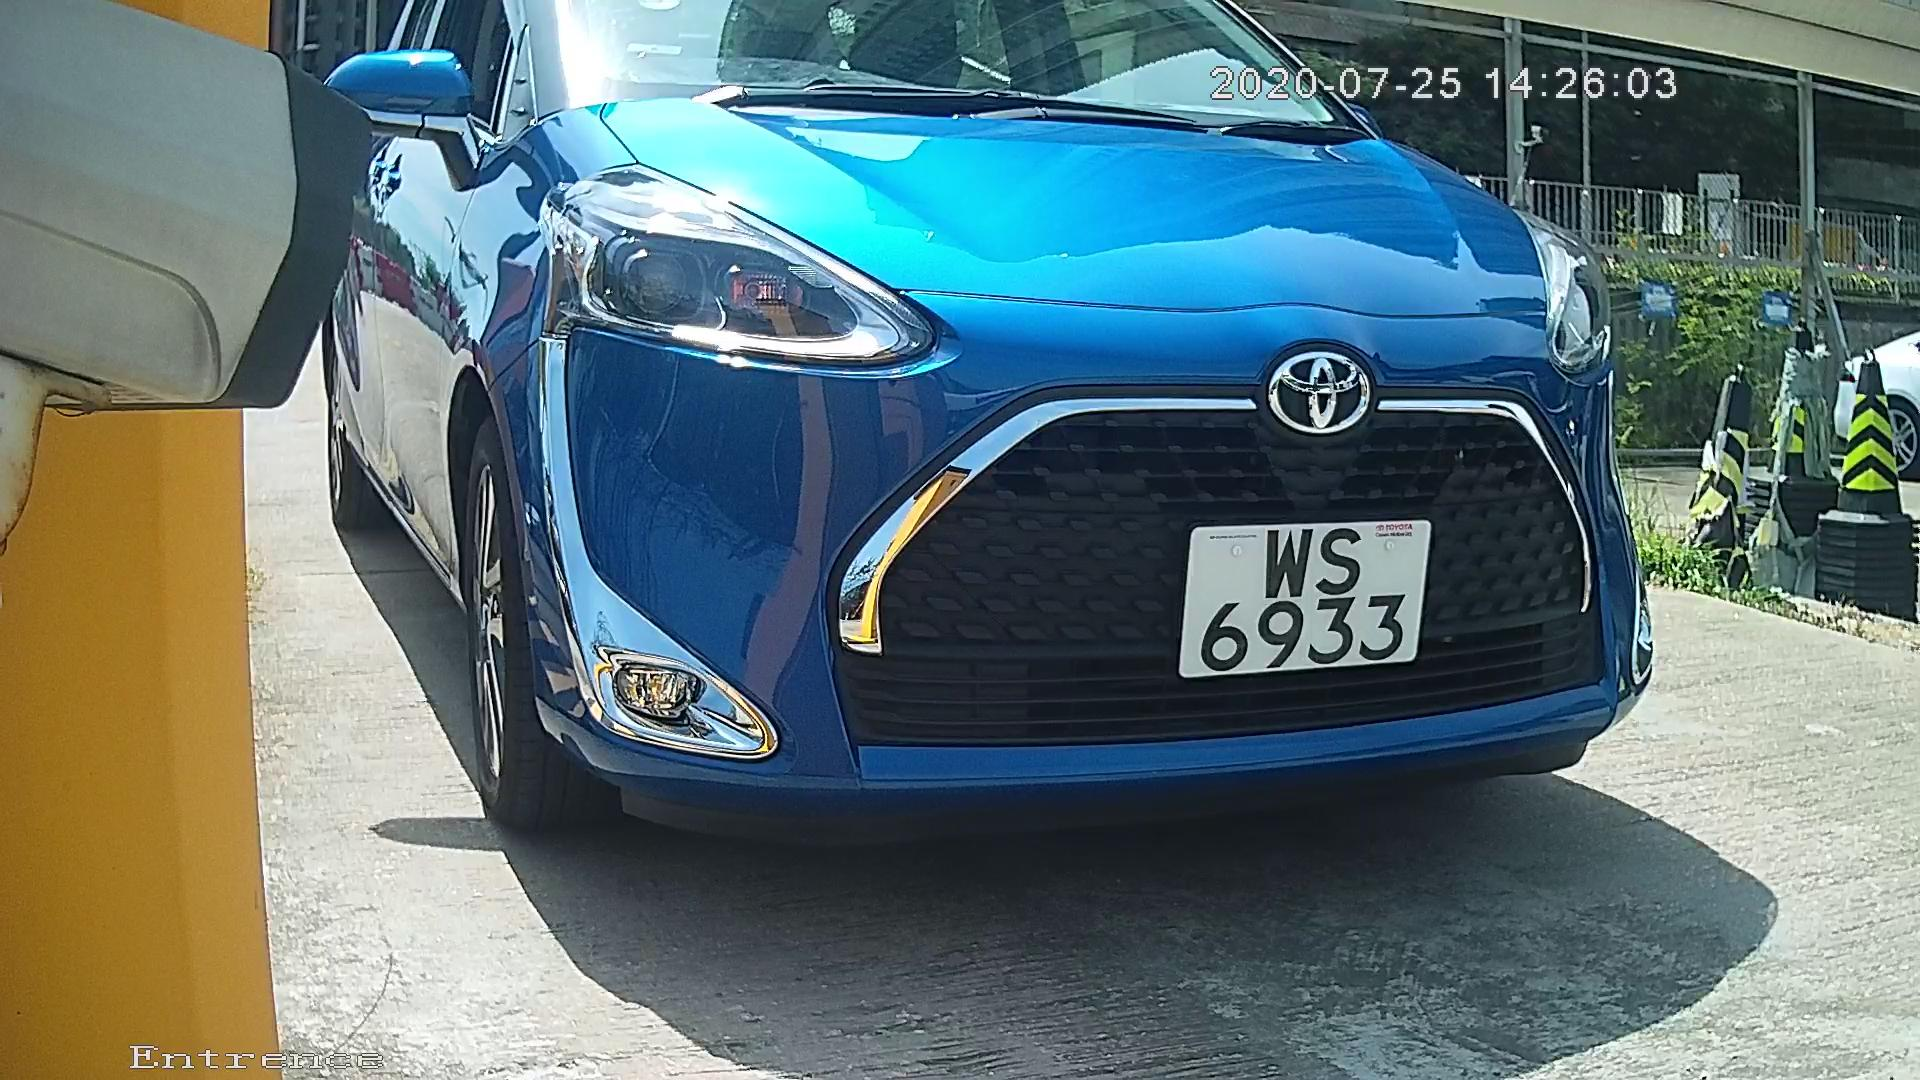Car: (249, 5, 1723, 931)
License Plate: (1158, 497, 1432, 700)
